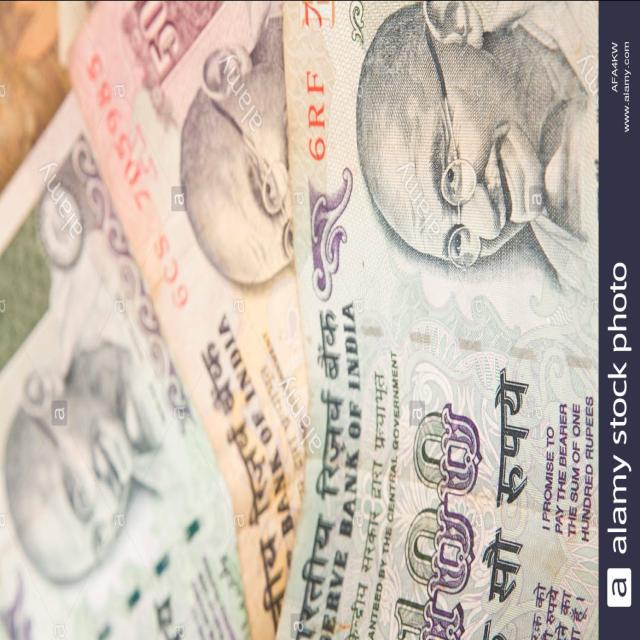100IndianRupees: (281, 3, 598, 640)
